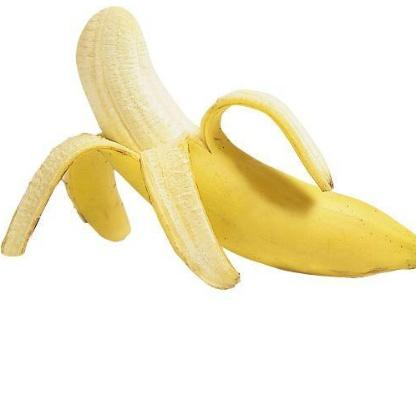chuoi: (65, 3, 413, 287)
